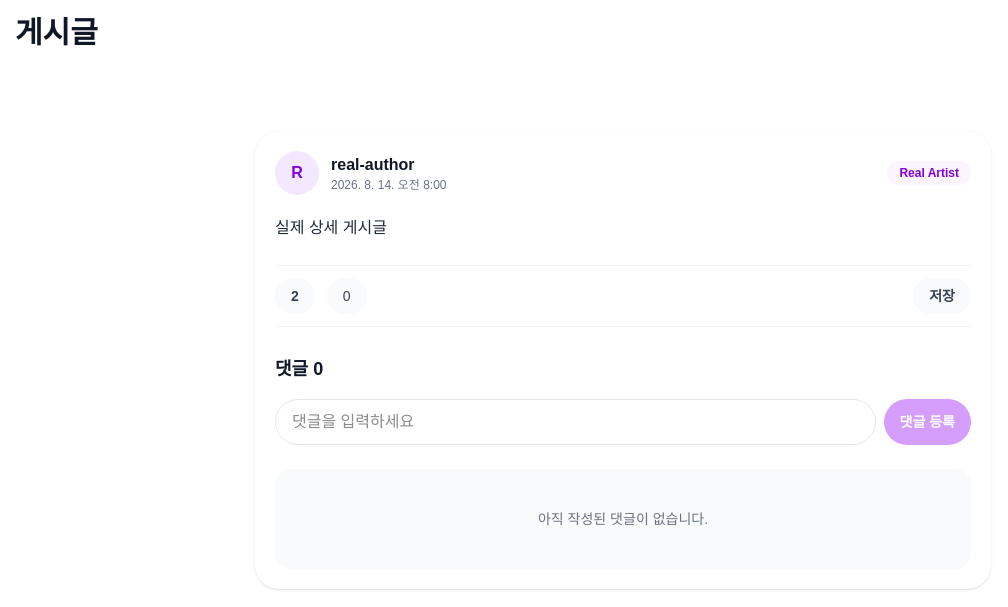
Test: PostDetailPage › creates a real comment and reloads the persisted comment list
This screenshot has width=1008, height=607.
Expected: the text "실제 상세 게시글" is shown, [275,219,387,236]
Type "실제 저장 댓글" into the field named "댓글 내용". click: coordinates (575, 422)
box: [275,399,876,445]
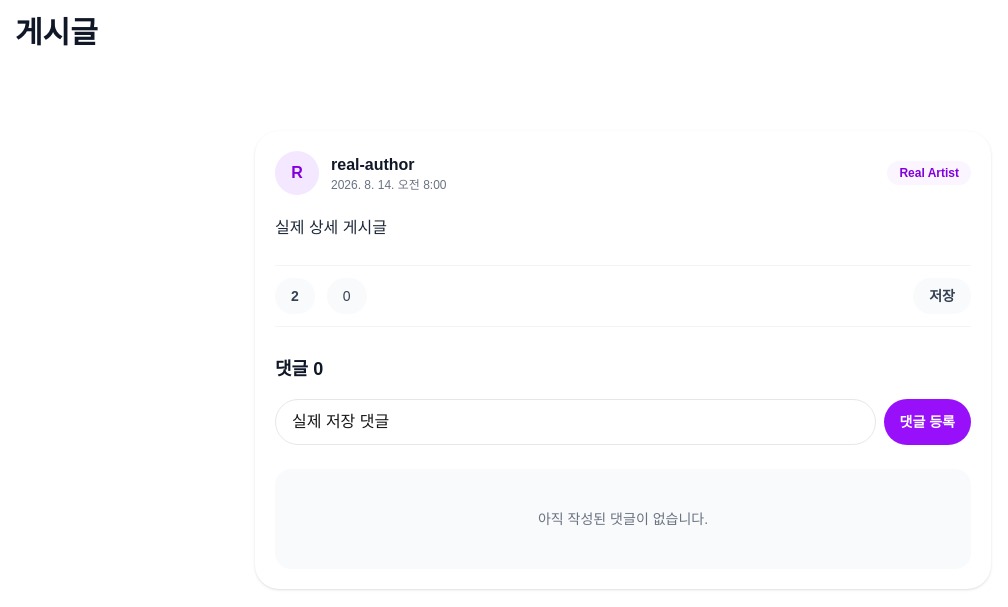
Click the button "댓글 등록". click: coordinates (927, 422)
box: [884,399,971,445]
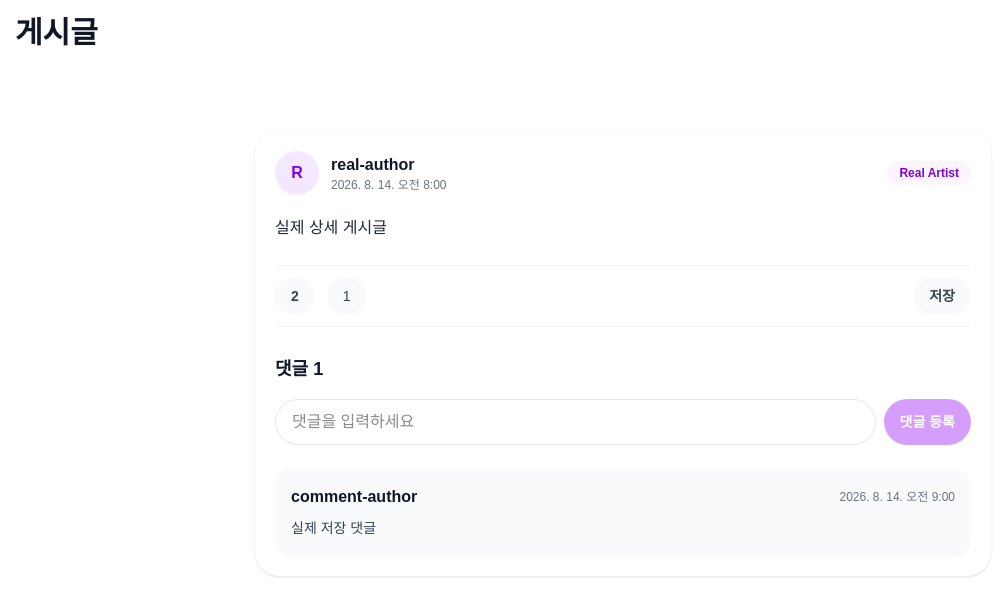
Now the text "실제 저장 댓글" is shown, box [291,520,376,536]
